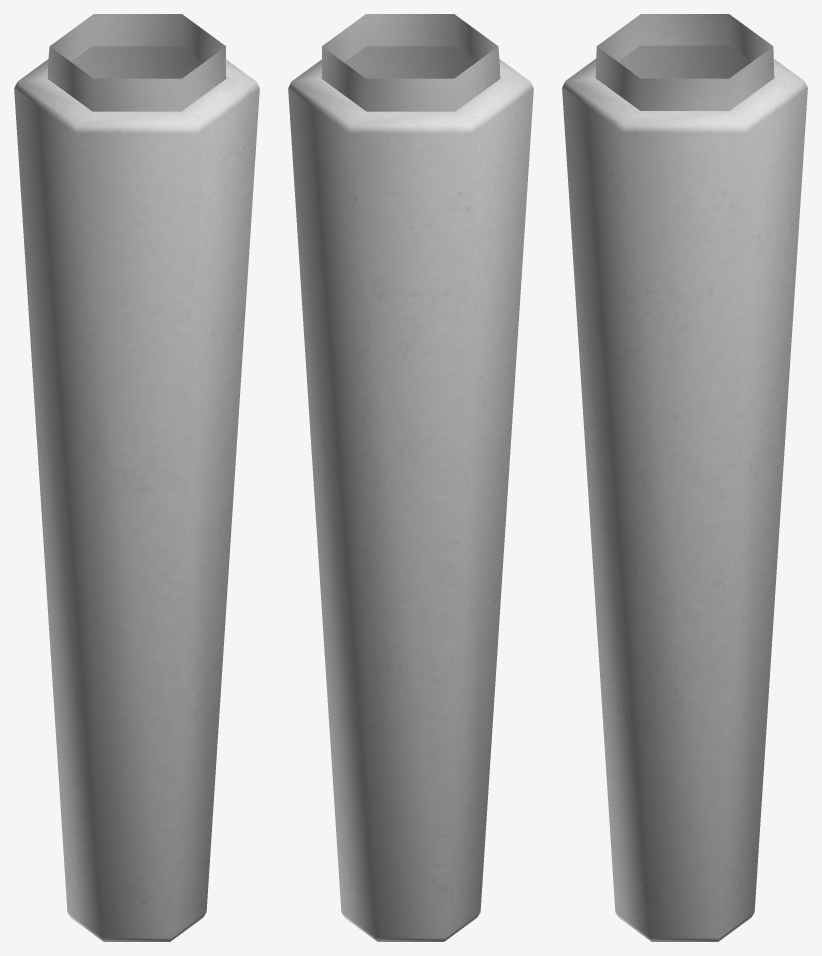
Rendered from EXO_01.glb.
3 renders of one model, left to right at view 1: azimuth 30°, elevation 25°; view 2: azimuth 150°, elevation 25°; view 3: azimuth 270°, elevation 25°, orthographic.
Bounding box in the file's own units: 0.0719 × 0.3256 × 0.083.
Materials: 1 (1 with a texture image).
